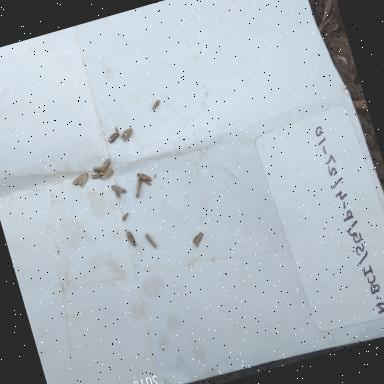pbw: (97, 156, 117, 175), (136, 168, 154, 188), (118, 126, 138, 144), (74, 170, 92, 190), (110, 180, 129, 198), (190, 230, 208, 249), (125, 228, 139, 250), (104, 129, 122, 146), (98, 165, 118, 180), (144, 230, 159, 250), (68, 172, 86, 188), (131, 178, 145, 198), (149, 98, 163, 112), (89, 170, 102, 182), (119, 210, 130, 222), (92, 164, 105, 174)
